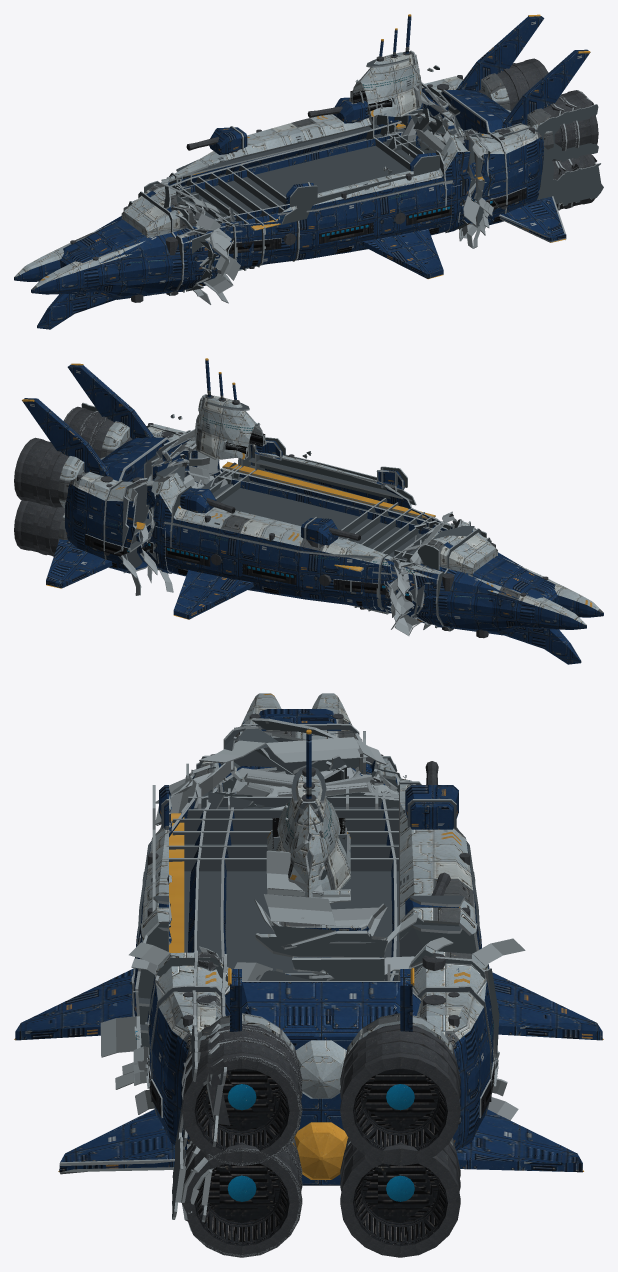
Rendered from concord-battleship-wreck-v4.glb.
The picture shows the model from 3 angles, top to bottom: view 1: azimuth 30°, elevation 25°; view 2: azimuth 150°, elevation 25°; view 3: azimuth 270°, elevation 25°; orthographic projection. The views are drawn at different scales.
Visible parts, largest first — view 1: Battleship wreck midsection, Battleship wreck forward section, Battleship wreck engine section, Battleship wreck detached engine pod, Battleship wreck bridge, Battleship wreck bridge support 1, Battleship wreck bridge support 3, Battleship wreck bridge support 2; view 2: Battleship wreck midsection, Battleship wreck engine section, Battleship wreck forward section, Battleship wreck bridge, Battleship wreck bridge support 3, Battleship wreck bridge support 1, Battleship wreck bridge support 2, Battleship wreck detached engine pod; view 3: Battleship wreck engine section, Battleship wreck midsection, Battleship wreck detached engine pod, Battleship wreck forward section, Battleship wreck bridge support 3, Battleship wreck bridge, Battleship wreck bridge support 2.
Boxes of the visible parts, bbox=[...] form: Battleship wreck midsection: bbox=[166, 97, 479, 289]; Battleship wreck forward section: bbox=[14, 178, 240, 329]; Battleship wreck engine section: bbox=[388, 14, 596, 241]; Battleship wreck detached engine pod: bbox=[465, 102, 603, 248]; Battleship wreck bridge: bbox=[366, 14, 417, 74]; Battleship wreck bridge support 1: bbox=[349, 72, 392, 117]; Battleship wreck bridge support 3: bbox=[396, 63, 429, 112]; Battleship wreck bridge support 2: bbox=[375, 71, 409, 117]; Battleship wreck midsection: bbox=[141, 437, 452, 635]; Battleship wreck engine section: bbox=[14, 363, 217, 595]; Battleship wreck forward section: bbox=[390, 511, 603, 664]; Battleship wreck bridge: bbox=[199, 358, 249, 417]; Battleship wreck bridge support 3: bbox=[184, 406, 221, 456]; Battleship wreck bridge support 1: bbox=[228, 415, 266, 459]; Battleship wreck bridge support 2: bbox=[210, 414, 242, 459]; Battleship wreck detached engine pod: bbox=[81, 402, 220, 485]; Battleship wreck engine section: bbox=[188, 864, 583, 1257]; Battleship wreck midsection: bbox=[14, 761, 603, 1059]; Battleship wreck detached engine pod: bbox=[58, 942, 212, 1221]; Battleship wreck forward section: bbox=[155, 693, 404, 803]; Battleship wreck bridge support 3: bbox=[266, 803, 350, 903]; Battleship wreck bridge: bbox=[291, 729, 326, 825]; Battleship wreck bridge support 2: bbox=[270, 796, 350, 882].
Bounding box in the file's own units: 2.38 × 0.9303 × 1.2.
Materials: 6 (3 with a texture image).
